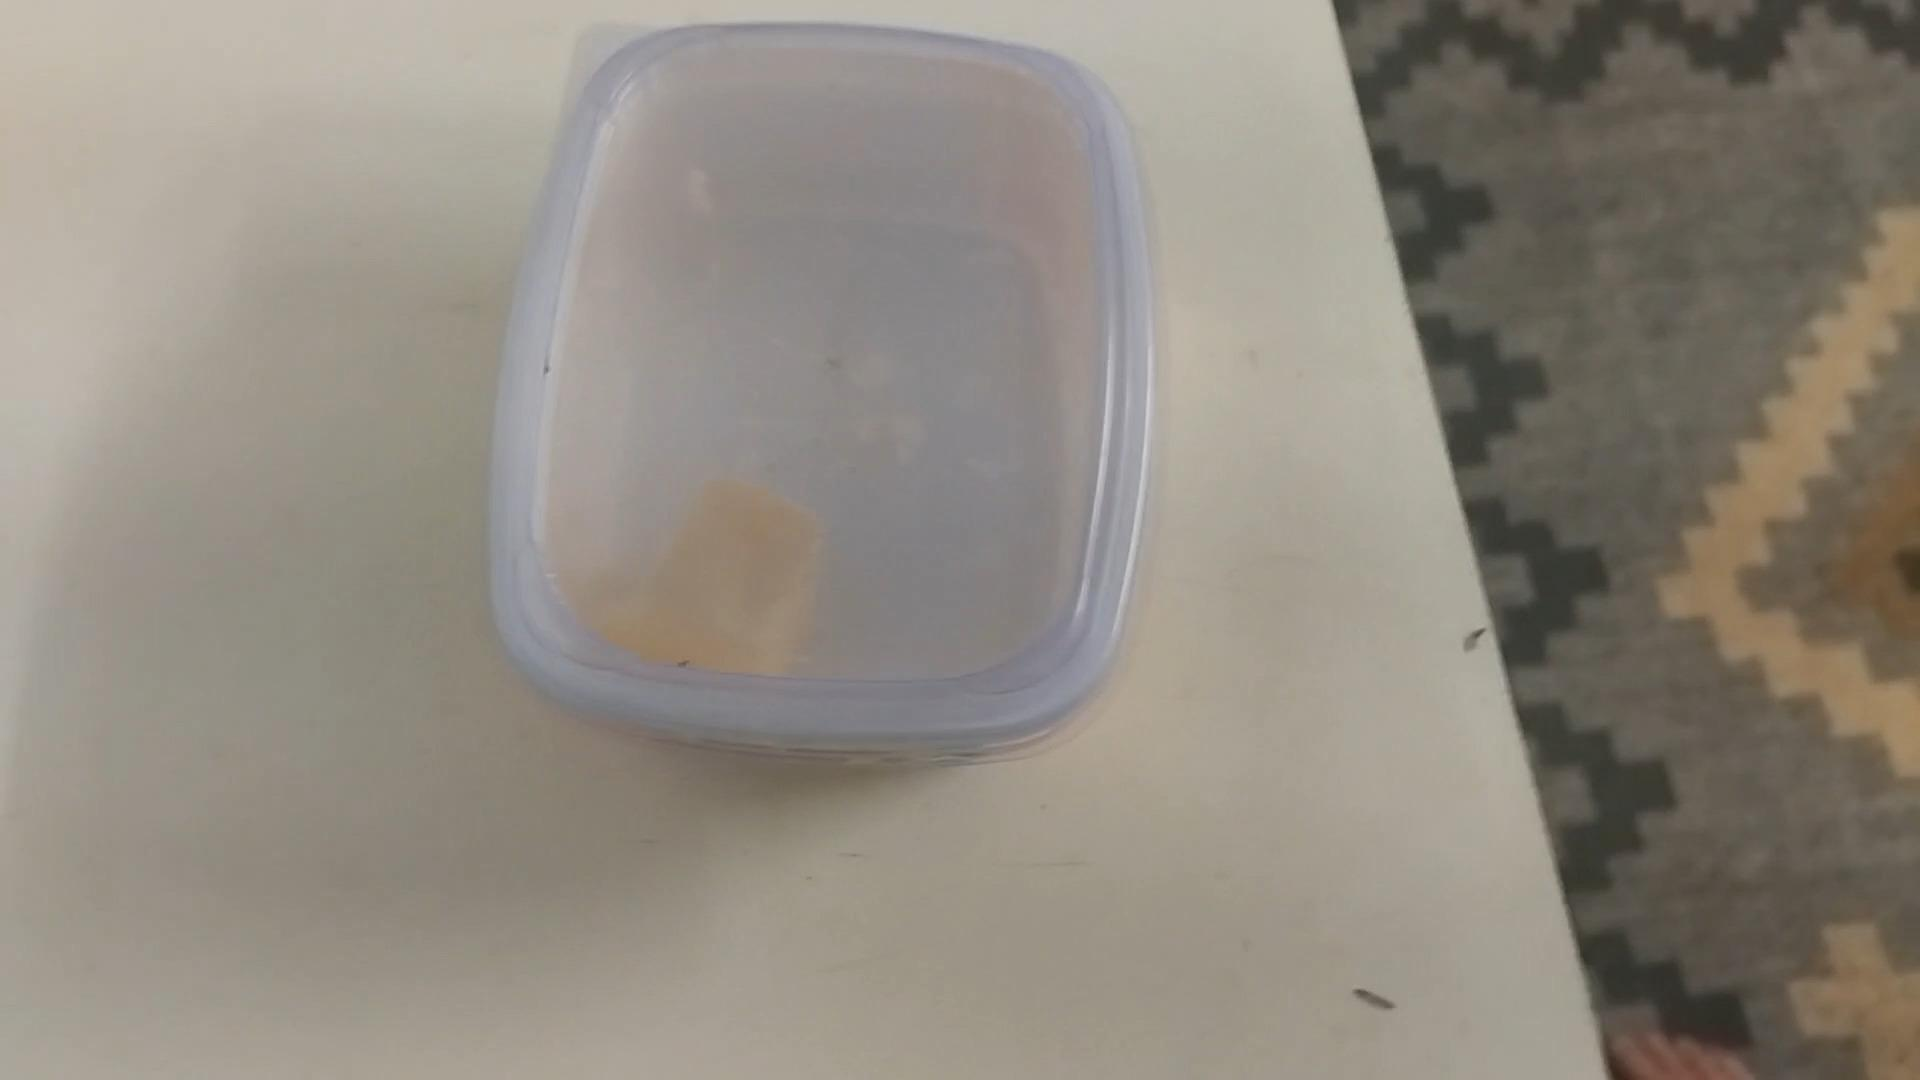butter: (488, 32, 1142, 765)
